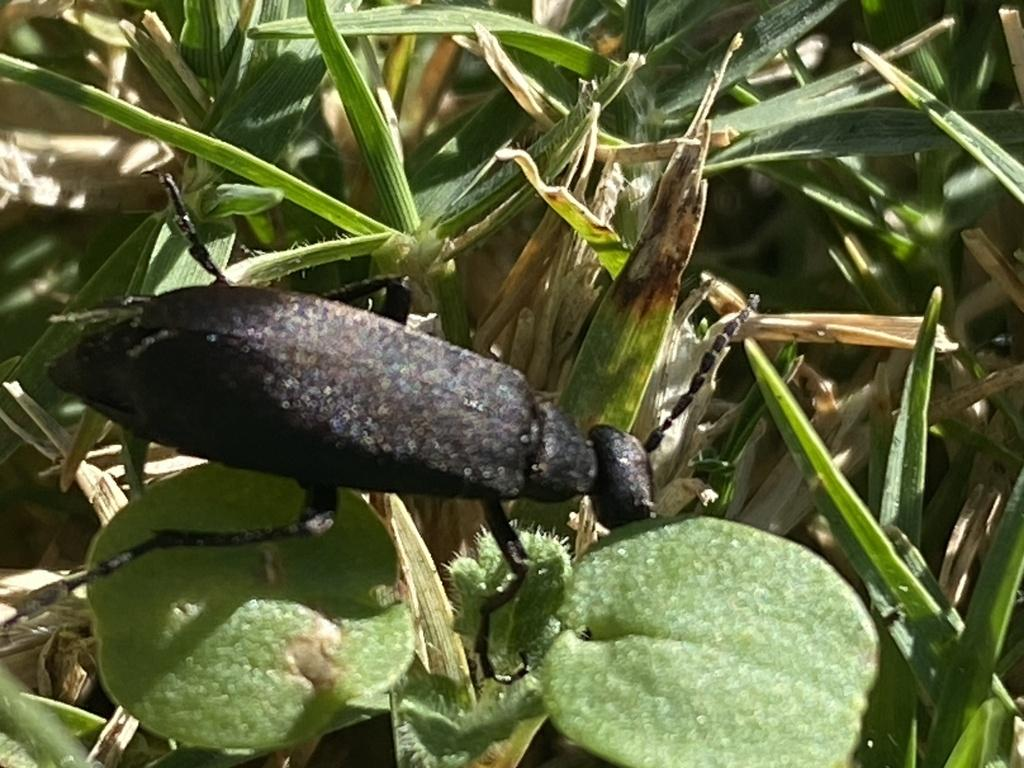blister_beetle: (2, 121, 785, 706)
